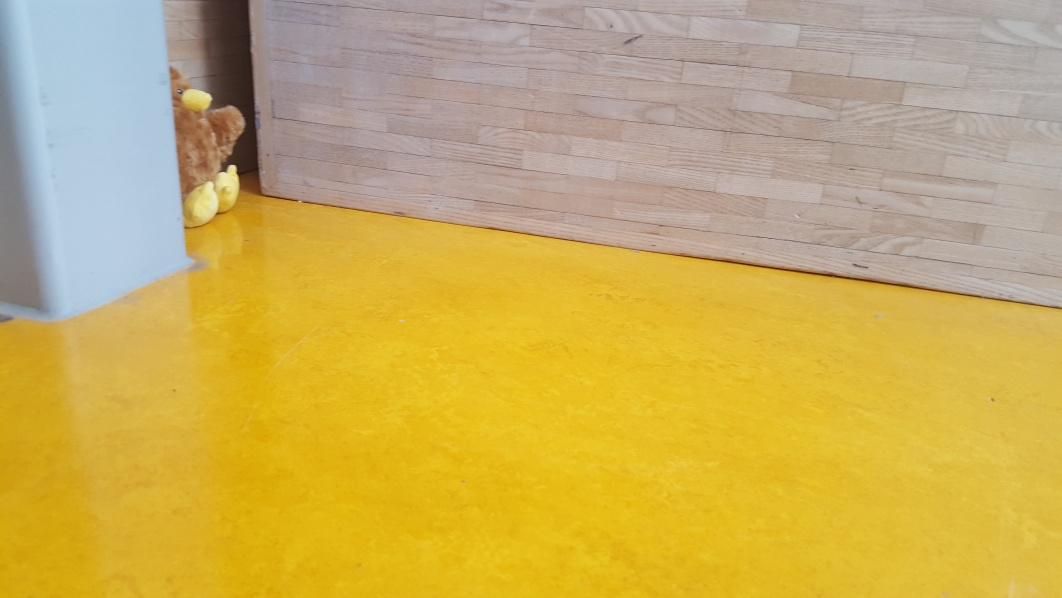chicken: (172, 67, 246, 229)
